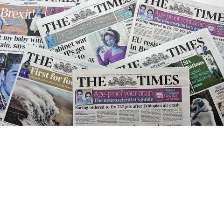news_paper: (105, 26, 224, 126), (0, 0, 88, 120), (0, 42, 113, 125), (70, 66, 192, 126), (122, 0, 224, 62), (34, 0, 130, 65)
